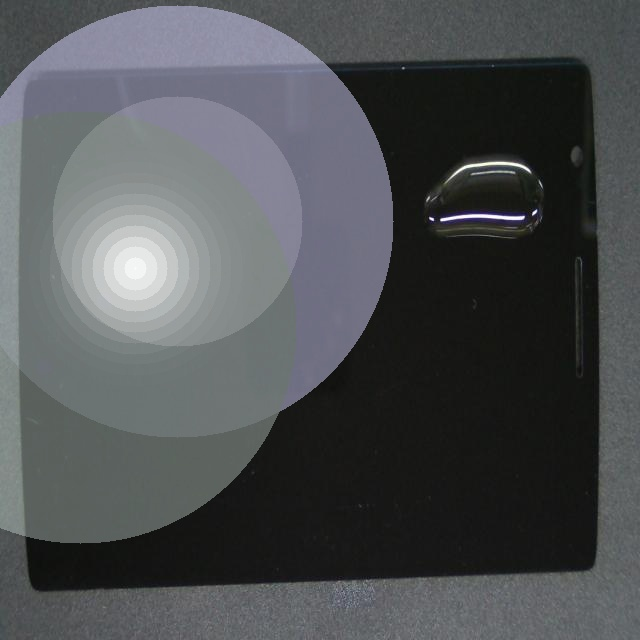oil: (279, 149, 640, 297)
